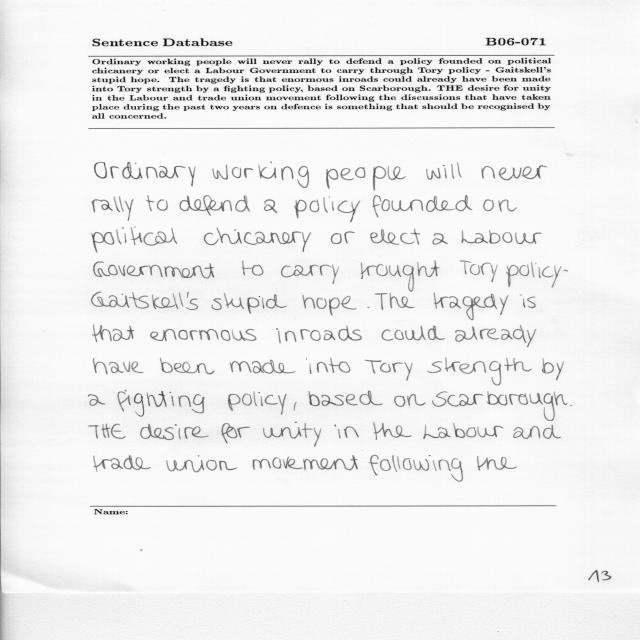word: (432, 391, 568, 421), (427, 358, 532, 386), (204, 228, 311, 252), (369, 455, 463, 482), (213, 162, 309, 188), (361, 260, 439, 292), (95, 162, 196, 186), (373, 195, 473, 218), (118, 391, 205, 417), (92, 227, 177, 252), (94, 262, 214, 279), (434, 293, 509, 320), (326, 166, 406, 191), (92, 292, 198, 310), (455, 325, 536, 347), (295, 197, 360, 222), (212, 293, 287, 314), (253, 455, 358, 470), (179, 195, 250, 216), (276, 326, 362, 343), (263, 422, 321, 447), (228, 391, 287, 415), (507, 262, 562, 287), (423, 423, 504, 439), (151, 329, 257, 341), (167, 456, 238, 473), (281, 264, 339, 284), (302, 295, 357, 316), (461, 230, 542, 244), (308, 391, 383, 406), (140, 424, 209, 440), (92, 196, 133, 221), (365, 360, 413, 381), (482, 166, 547, 181), (94, 455, 151, 472), (381, 326, 445, 341), (230, 360, 296, 374), (160, 358, 214, 374), (370, 228, 420, 245), (94, 358, 144, 375), (460, 261, 498, 282), (92, 325, 134, 342), (306, 358, 350, 374), (374, 422, 412, 440), (513, 425, 561, 439), (375, 293, 414, 310), (426, 162, 462, 180), (222, 423, 250, 444), (89, 423, 125, 439), (477, 456, 517, 470), (542, 358, 564, 380), (483, 199, 517, 212), (394, 394, 425, 407), (146, 195, 168, 211), (334, 425, 359, 439), (242, 261, 264, 276), (331, 232, 355, 244), (520, 295, 536, 308), (89, 394, 106, 406), (264, 200, 277, 214), (433, 233, 448, 245), (294, 402, 297, 411), (563, 270, 568, 272), (367, 307, 370, 308), (570, 405, 572, 406)
